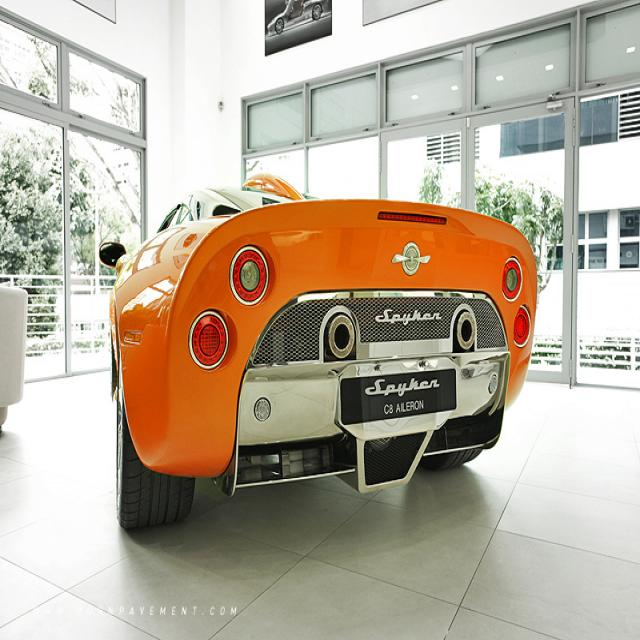car: (91, 186, 545, 516)
